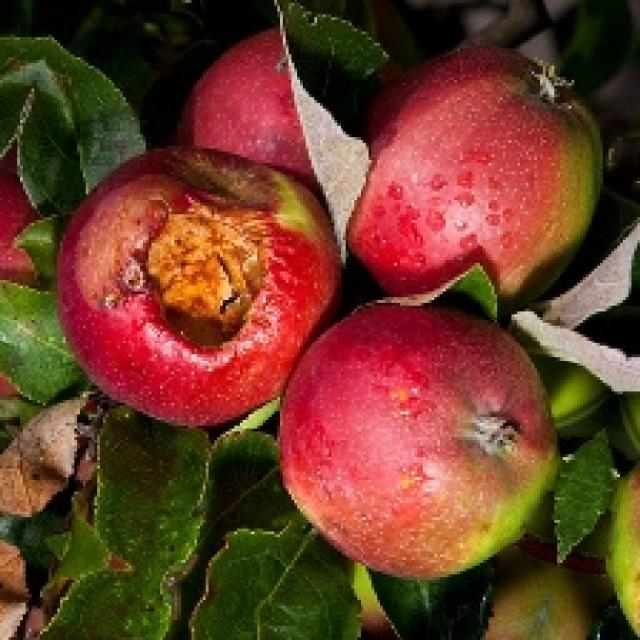100-_ripeness: (299, 306, 553, 576), (350, 51, 602, 292)
rotten_apple: (66, 149, 296, 420)
